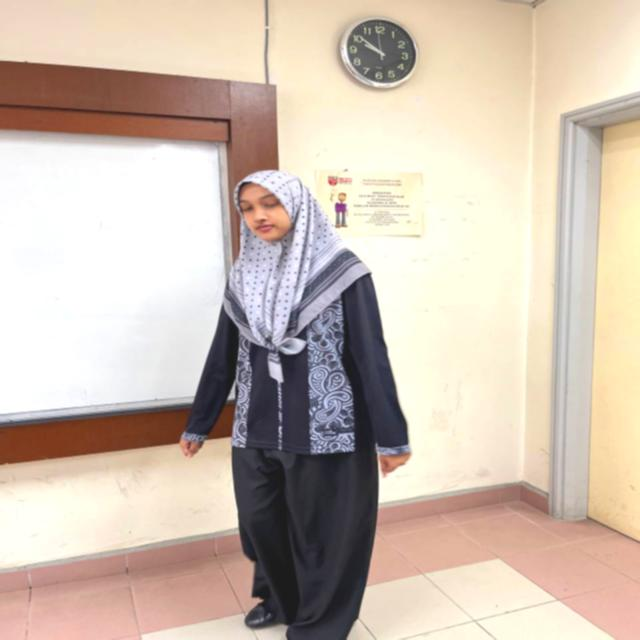person_without_labcoat: (180, 170, 411, 640)
